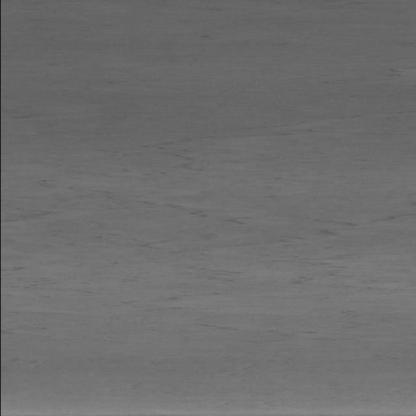silk_spot: (117, 179, 324, 287)
